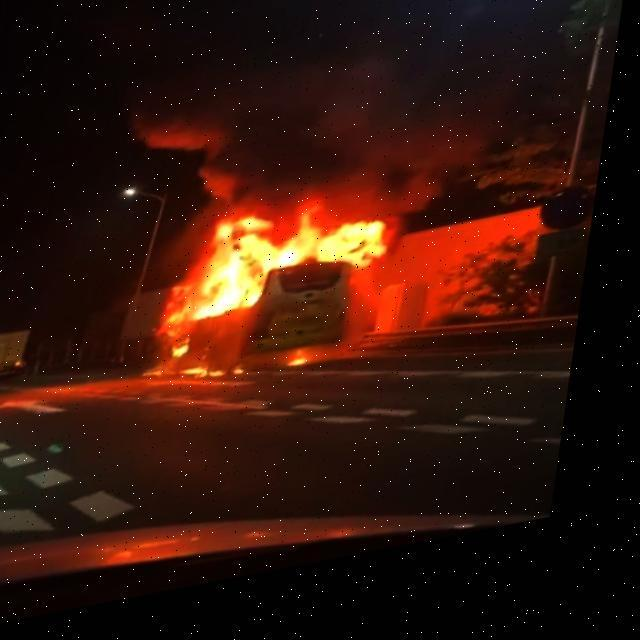Fire: (168, 201, 406, 397)
